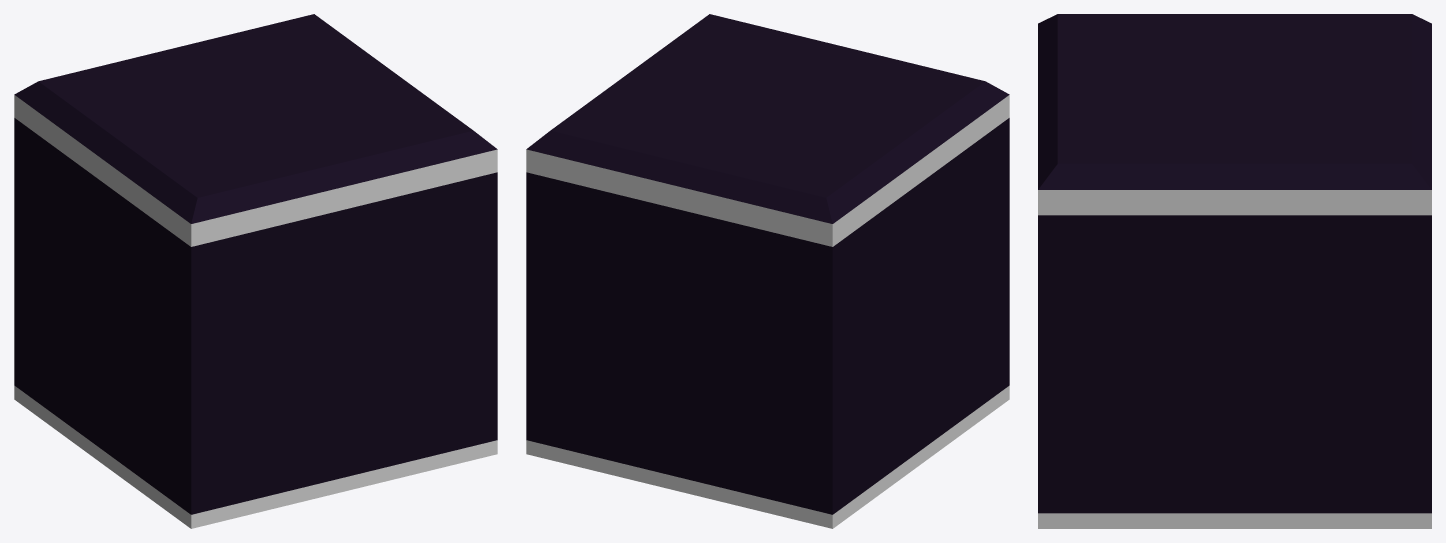
3 views of the same model, side by side, from view 1: azimuth 30°, elevation 25°; view 2: azimuth 150°, elevation 25°; view 3: azimuth 270°, elevation 25° (orthographic). The views are drawn at different scales.
Visible parts, largest first — view 1: Cube; view 2: Cube; view 3: Cube.
Boxes of the visible parts, x1,y1,x2,y2 form: Cube: (14, 14, 497, 528); Cube: (526, 14, 1009, 528); Cube: (1038, 14, 1431, 528).
Size of the model in its own units: 100 by 100 by 100.
